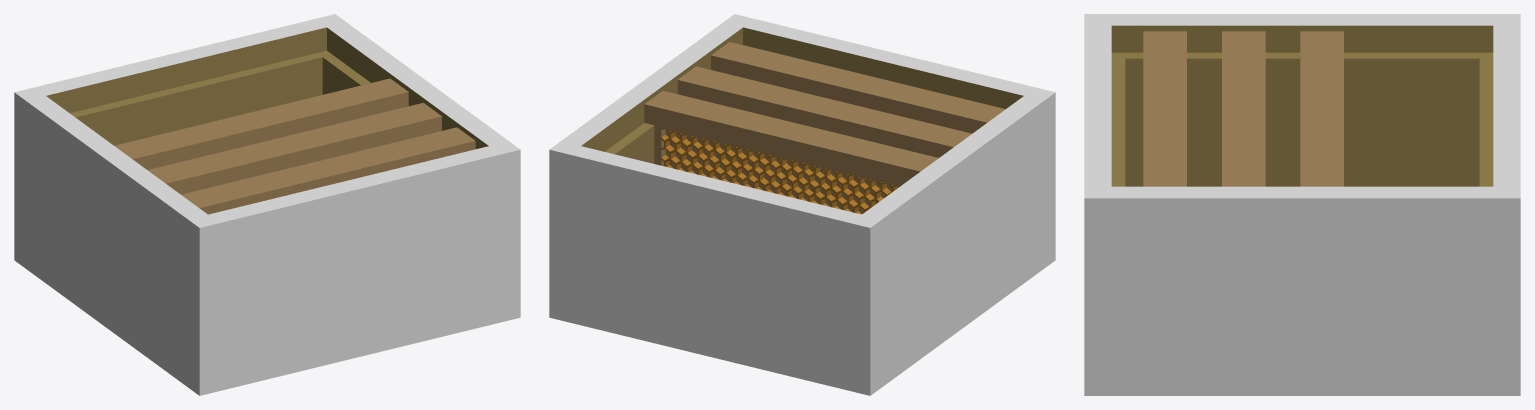
File: TechTreeModels 1.fbx
3 renders of one model, left to right at view 1: azimuth 30°, elevation 25°; view 2: azimuth 150°, elevation 25°; view 3: azimuth 270°, elevation 25°, orthographic. The views are drawn at different scales.
Parts seen in each view (by area): view 1: Cube, HoneyComb.001, HoneyComb.003, HoneyComb.002; view 2: Cube, HoneyComb.003, HoneyComb.002, HoneyComb.001; view 3: Cube, HoneyComb.001, HoneyComb.002, HoneyComb.003.
Part boxes in pixels (bbox=[...]): Cube: bbox=[14, 14, 520, 395]; HoneyComb.001: bbox=[147, 103, 441, 194]; HoneyComb.003: bbox=[114, 78, 408, 169]; HoneyComb.002: bbox=[181, 127, 475, 214]; Cube: bbox=[549, 14, 1055, 395]; HoneyComb.003: bbox=[644, 91, 938, 214]; HoneyComb.002: bbox=[711, 42, 1005, 133]; HoneyComb.001: bbox=[677, 66, 971, 157]; Cube: bbox=[1084, 14, 1520, 395]; HoneyComb.001: bbox=[1222, 31, 1265, 186]; HoneyComb.002: bbox=[1143, 31, 1186, 186]; HoneyComb.003: bbox=[1300, 31, 1343, 186].
Size of the model in its own units: 200 by 100 by 200.
